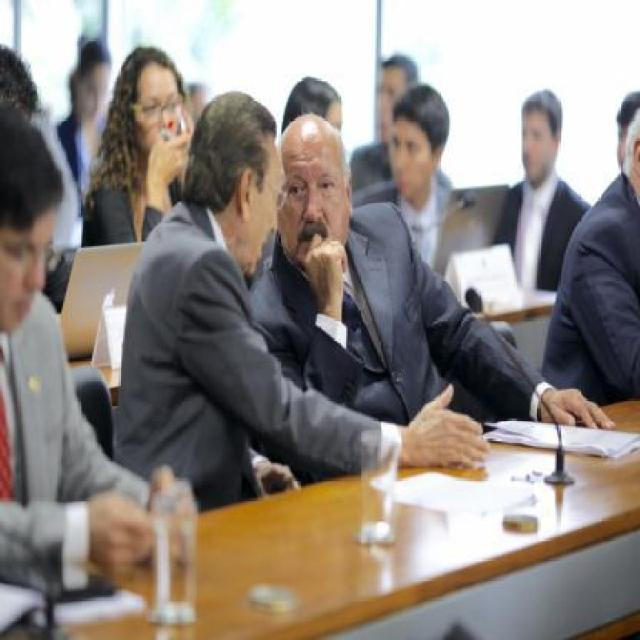Person: (103, 84, 494, 511), (0, 42, 597, 318), (247, 111, 615, 492), (1, 97, 194, 588), (538, 112, 638, 405), (613, 93, 639, 172)
